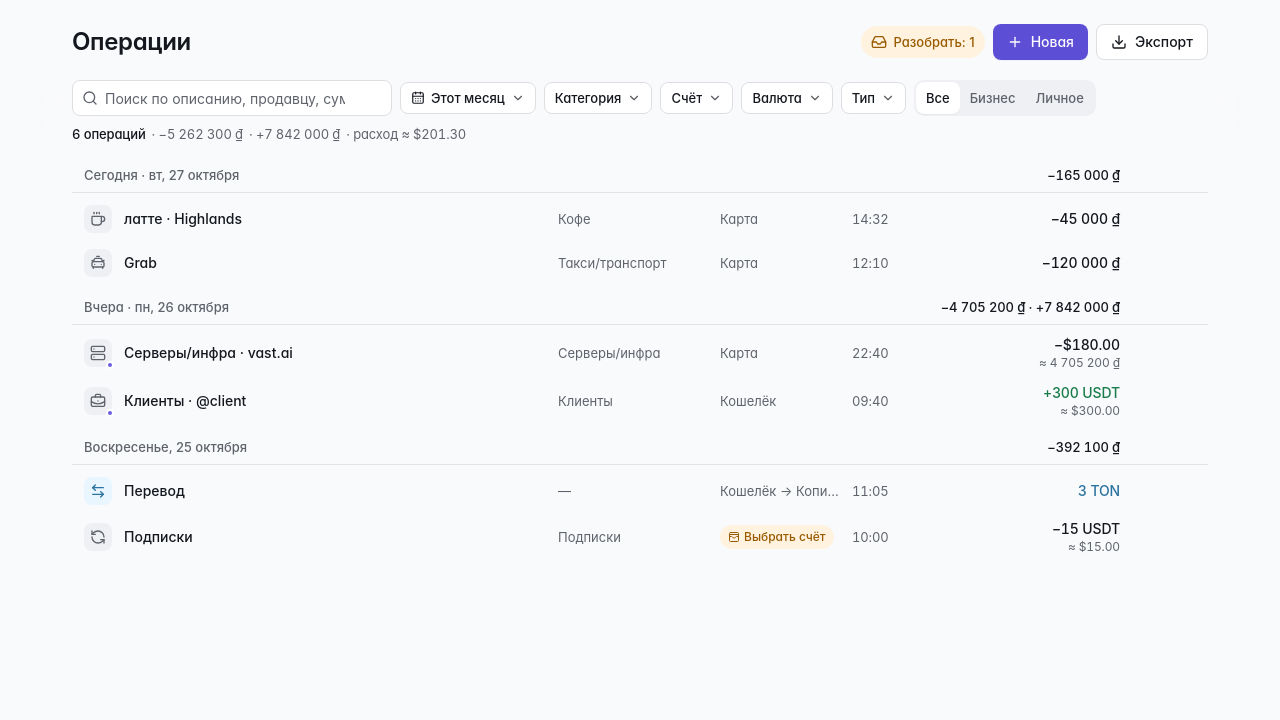
Test: OperationsView › edits inline: Enter sends only changed fields + version
Click the button "латте · Highlands Кофе Карта 14:32 −45 000 ₫". click: coordinates (183, 218)
box: [72,197,1208,241]
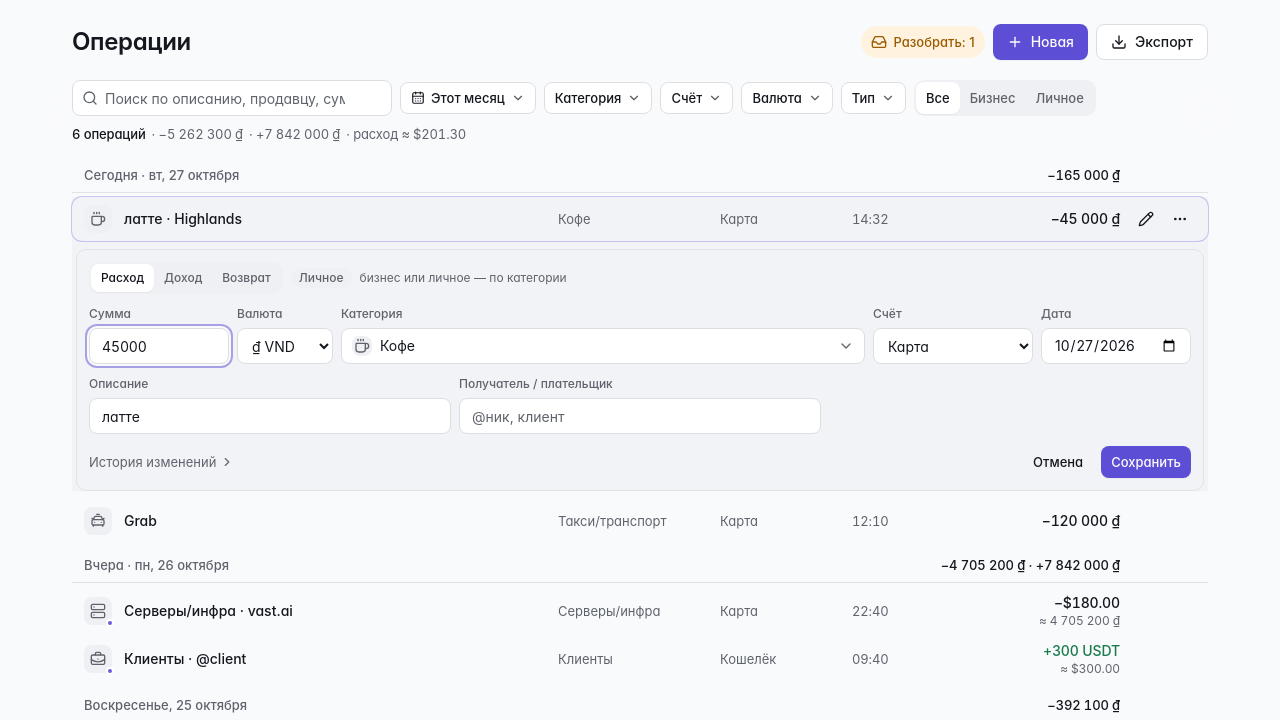
Replace the text in the field labelled "Сумма" with "50к". click: coordinates (159, 346)
box: [89,328,229,364]
Then press Enter
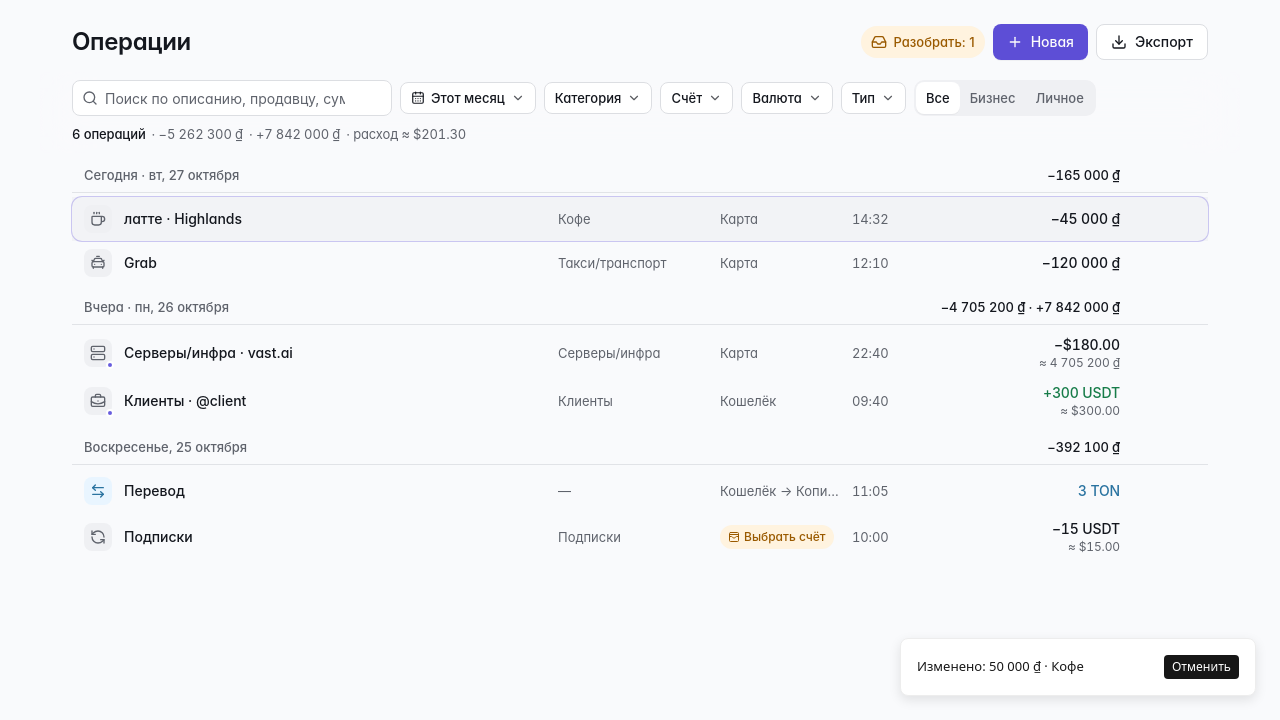
Expected: the text "Изменено: 50 000 ₫ · Кофе" is shown, [917,657,1084,677]
